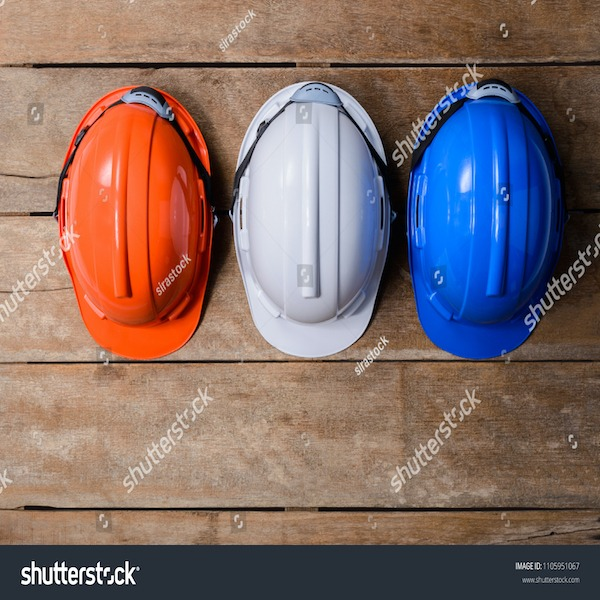helmet: (232, 81, 396, 349), (57, 81, 212, 352), (414, 91, 556, 342)
